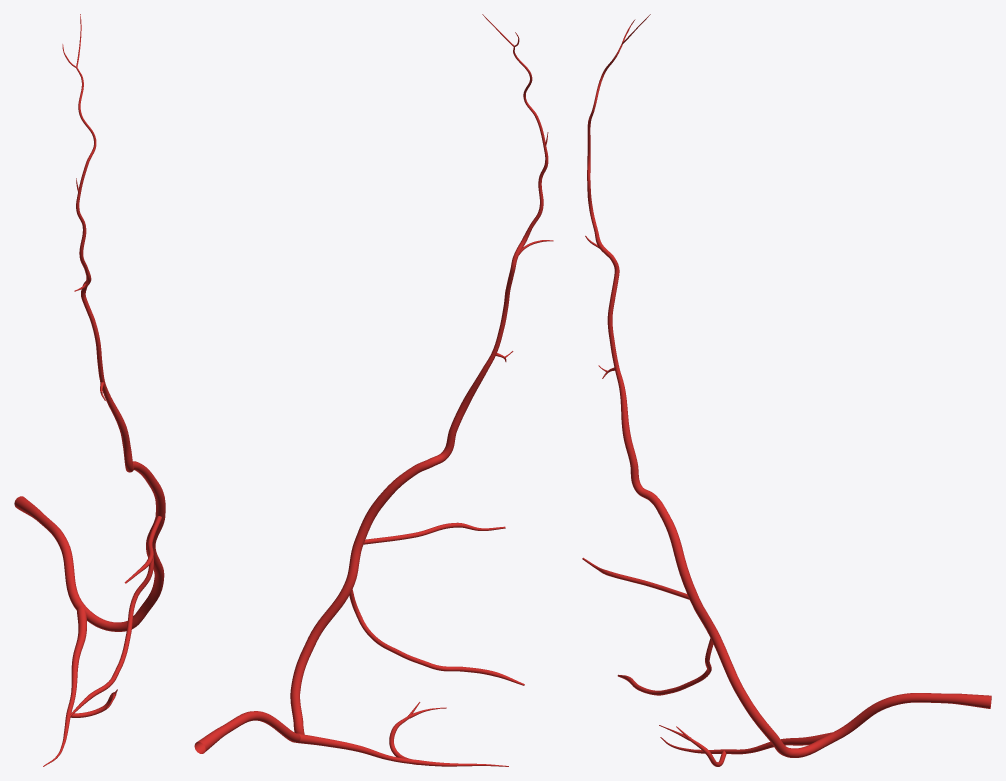
The model's file is circulatorio-facial-artery-l.glb.
3 renders of one model, left to right at view 1: azimuth 30°, elevation 25°; view 2: azimuth 150°, elevation 25°; view 3: azimuth 270°, elevation 25°, orthographic.
Visible parts, largest first — view 1: Facial artery.l, Angular artery.l, Submental artery.l, Inferior labial artery.l, Superior labial artery.l; view 2: Facial artery.l, Angular artery.l, Submental artery.l, Inferior labial artery.l, Superior labial artery.l; view 3: Facial artery.l, Angular artery.l, Submental artery.l, Inferior labial artery.l.
Part boxes in pixels (box(x1,y1,x2,y2)): Facial artery.l: box(14, 482, 165, 631); Angular artery.l: box(62, 14, 158, 487); Submental artery.l: box(43, 605, 117, 766); Inferior labial artery.l: box(69, 553, 153, 716); Superior labial artery.l: box(124, 516, 161, 583); Facial artery.l: box(194, 497, 385, 753); Angular artery.l: box(378, 14, 553, 502); Submental artery.l: box(297, 702, 508, 766); Inferior labial artery.l: box(349, 589, 524, 685); Superior labial artery.l: box(363, 522, 505, 544); Facial artery.l: box(673, 550, 991, 757); Angular artery.l: box(585, 14, 682, 551); Submental artery.l: box(659, 725, 832, 766); Inferior labial artery.l: box(617, 638, 713, 695).
Size of the model in its own units: 0.0404 by 0.1678 by 0.0843.
